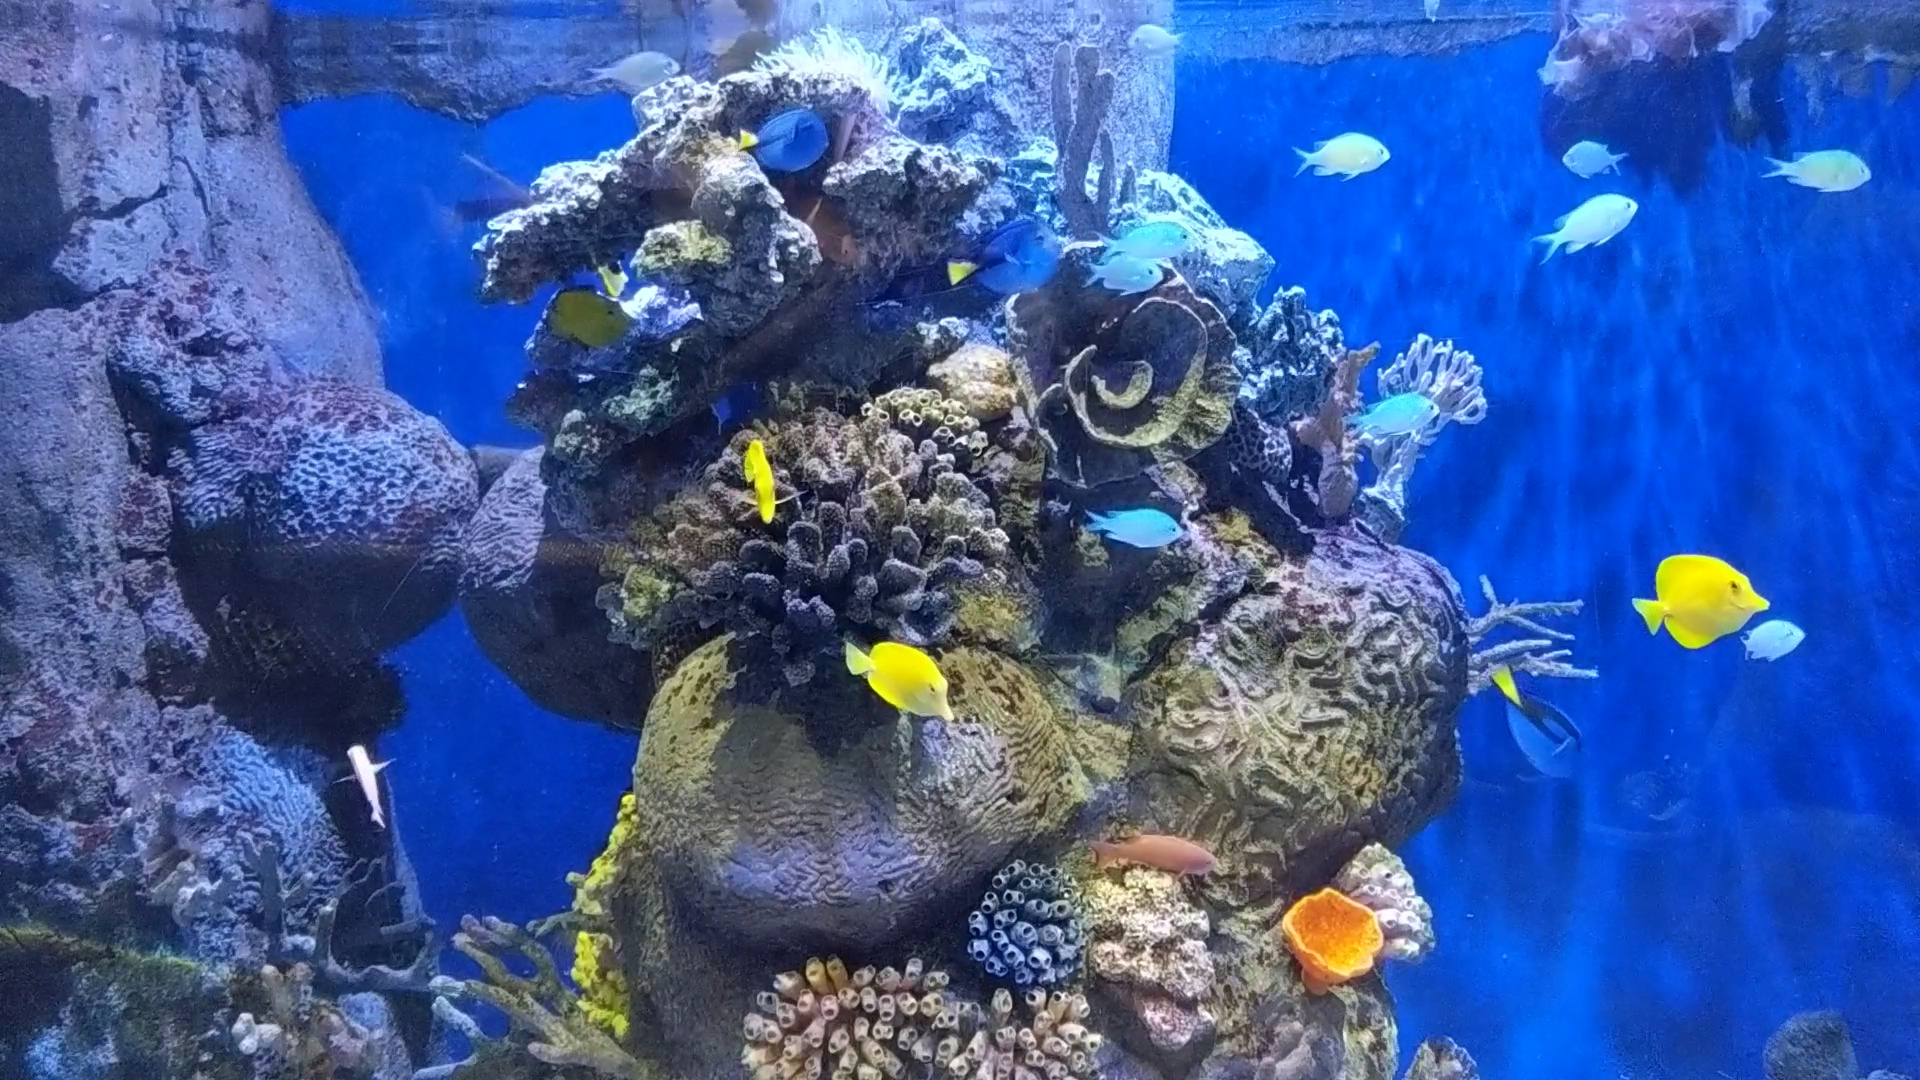blue tang surgeonfish: (1473, 659, 1585, 790), (939, 214, 1073, 295), (736, 113, 829, 175)
damselfish: (1534, 194, 1642, 264), (1075, 496, 1185, 551), (1290, 127, 1400, 179), (1342, 382, 1441, 439), (1092, 218, 1203, 264), (1762, 152, 1871, 196), (1083, 249, 1171, 295), (1730, 615, 1813, 663), (585, 53, 684, 92), (1563, 138, 1631, 179), (1122, 25, 1193, 55)
saddle butterfly fish: (1631, 553, 1774, 647), (840, 632, 960, 723), (534, 287, 644, 347), (737, 438, 793, 527)
